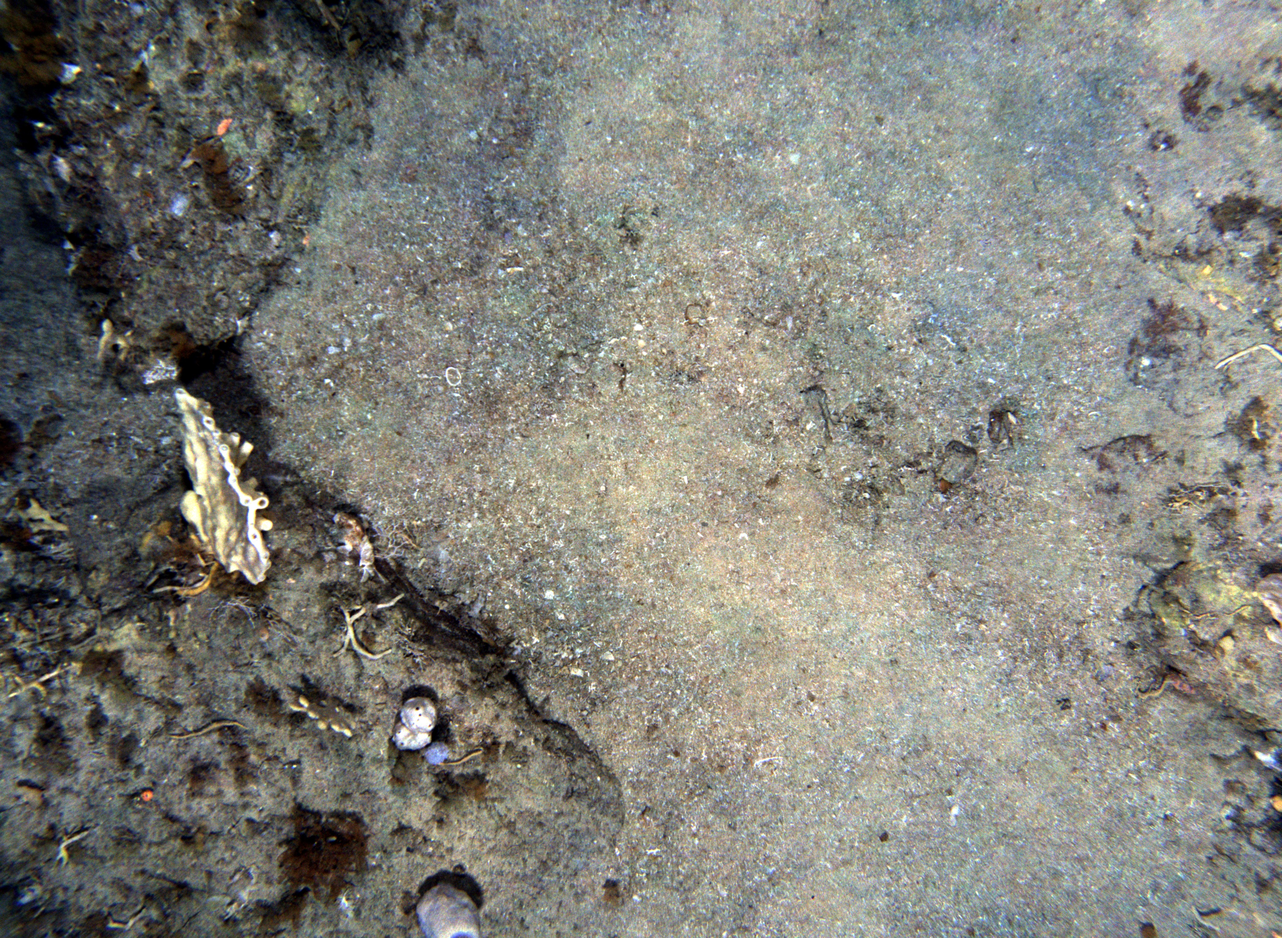Brachionichthyidae: (329, 510, 381, 582)
